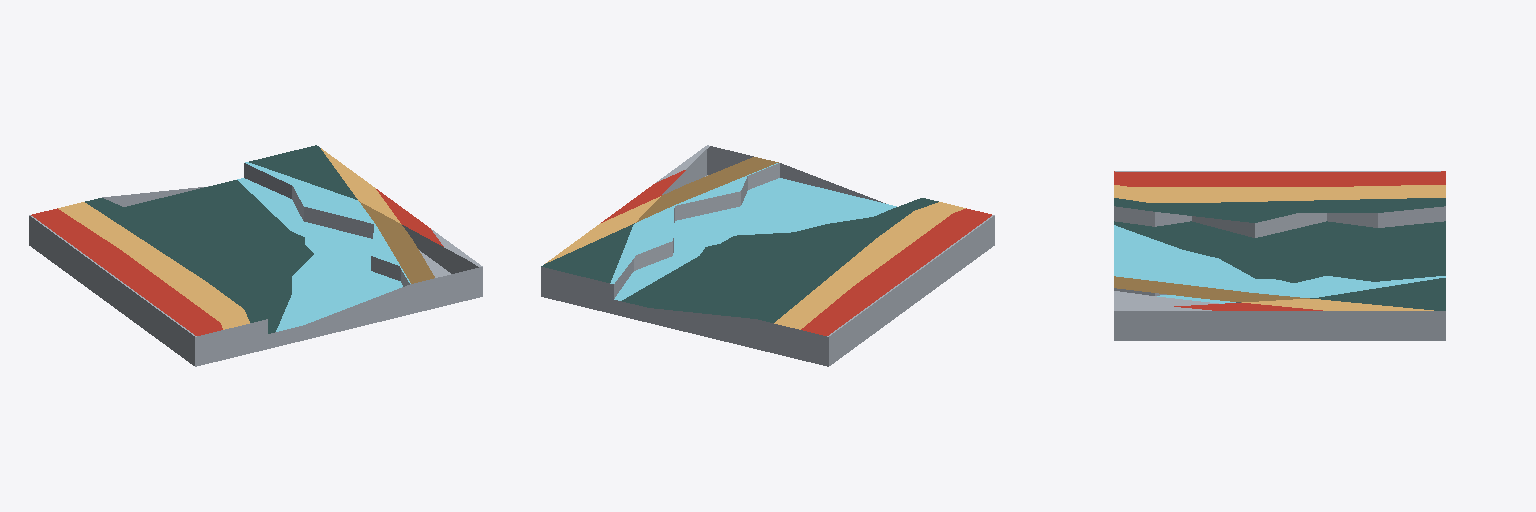
3 views of the same model, side by side, from view 1: azimuth 30°, elevation 25°; view 2: azimuth 150°, elevation 25°; view 3: azimuth 270°, elevation 25° (orthographic).
Parts seen in each view (by area): view 1: Mesh1 Plate_River Model; view 2: Mesh1 Plate_River Model; view 3: Mesh1 Plate_River Model.
Part boxes in pixels (bbox=[...]): Mesh1 Plate_River Model: bbox=[29, 145, 482, 366]; Mesh1 Plate_River Model: bbox=[541, 145, 994, 366]; Mesh1 Plate_River Model: bbox=[1114, 171, 1445, 340].
Bounding box in the file's own units: 3 × 0.3 × 3.
1 materials, 1 textured.